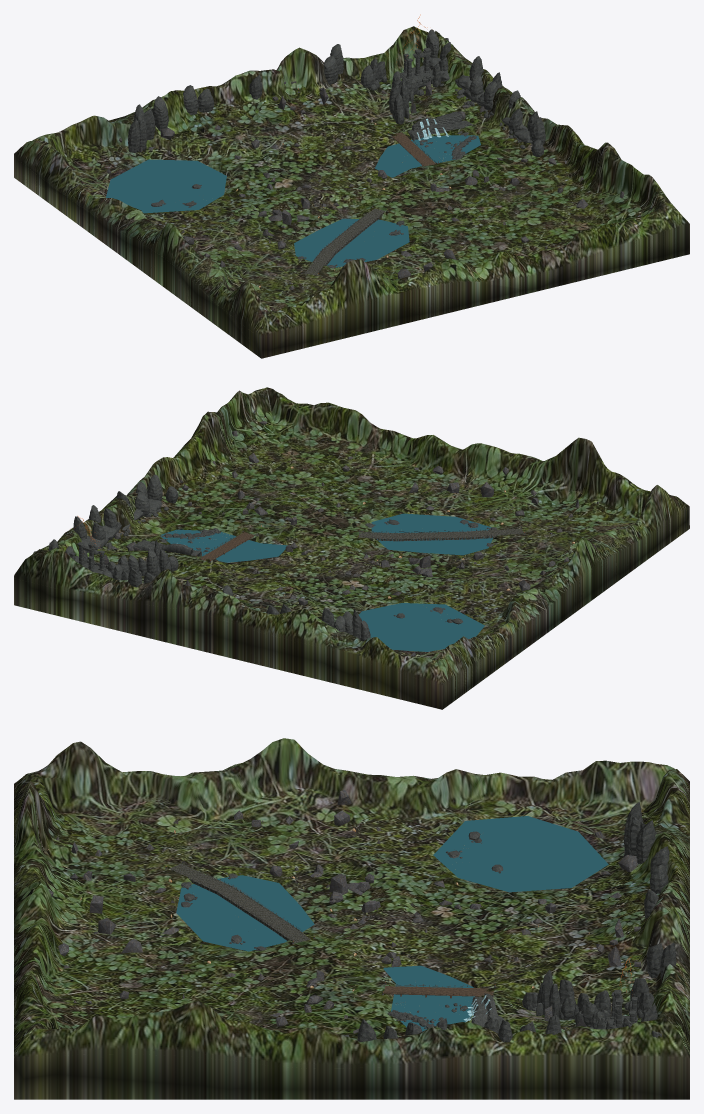
The model's file is world009_LOD1.fbx.
3 views of the same model, one above another, from view 1: azimuth 30°, elevation 25°; view 2: azimuth 150°, elevation 25°; view 3: azimuth 270°, elevation 25° (orthographic). The views are drawn at different scales.
Visible parts, largest first — view 1: LODMesh_0309, LODMesh_0310, LODMesh_0308, LODMesh_0307, LODMesh_0383, LODMesh_0400, LODMesh_0406, LODMesh_0409, LODMesh_0381, LODMesh_0404, LODMesh_0410, LODMesh_0403 (+28 smaller); view 2: LODMesh_0308, LODMesh_0310, LODMesh_0309, LODMesh_0307, LODMesh_0383, LODMesh_0381, LODMesh_0409, LODMesh_0403, LODMesh_0399, LODMesh_0390, LODMesh_0393, LODMesh_0410 (+25 smaller); view 3: LODMesh_0307, LODMesh_0310, LODMesh_0309, LODMesh_0383, LODMesh_0308, LODMesh_0381, LODMesh_0406, LODMesh_0399, LODMesh_0403, LODMesh_0410, LODMesh_0392, LODMesh_0386 (+31 smaller).
Boxes of the visible parts, x1,y1,x2,y2 form: LODMesh_0309: (261, 206, 689, 358); LODMesh_0310: (14, 140, 268, 358); LODMesh_0308: (23, 26, 439, 161); LODMesh_0307: (431, 31, 689, 247); LODMesh_0383: (106, 159, 226, 213); LODMesh_0400: (201, 129, 313, 187); LODMesh_0406: (271, 114, 381, 168); LODMesh_0409: (465, 194, 577, 245); LODMesh_0381: (294, 218, 409, 267); LODMesh_0404: (351, 179, 463, 229); LODMesh_0410: (424, 161, 538, 213); LODMesh_0403: (407, 214, 506, 263); LODMesh_0308: (14, 547, 442, 709); LODMesh_0310: (436, 485, 689, 709); LODMesh_0309: (267, 387, 689, 518); LODMesh_0307: (14, 387, 273, 574); LODMesh_0383: (359, 603, 484, 651); LODMesh_0381: (371, 513, 492, 555); LODMesh_0409: (248, 455, 360, 503); LODMesh_0403: (323, 475, 435, 520); LODMesh_0399: (309, 549, 416, 599); LODMesh_0390: (503, 480, 603, 529); LODMesh_0393: (382, 571, 494, 612); LODMesh_0410: (208, 484, 322, 529); LODMesh_0307: (14, 1001, 689, 1099); LODMesh_0310: (23, 738, 689, 819); LODMesh_0309: (14, 773, 66, 1057); LODMesh_0383: (433, 816, 608, 892); LODMesh_0308: (632, 769, 689, 1091); LODMesh_0381: (176, 875, 314, 951); LODMesh_0406: (462, 923, 582, 981); LODMesh_0399: (345, 885, 466, 938); LODMesh_0403: (121, 936, 240, 987); LODMesh_0410: (237, 979, 356, 1029); LODMesh_0392: (238, 838, 356, 892); LODMesh_0386: (238, 788, 357, 843).
Size of the model in its own units: 40000 by 7560 by 40000.
